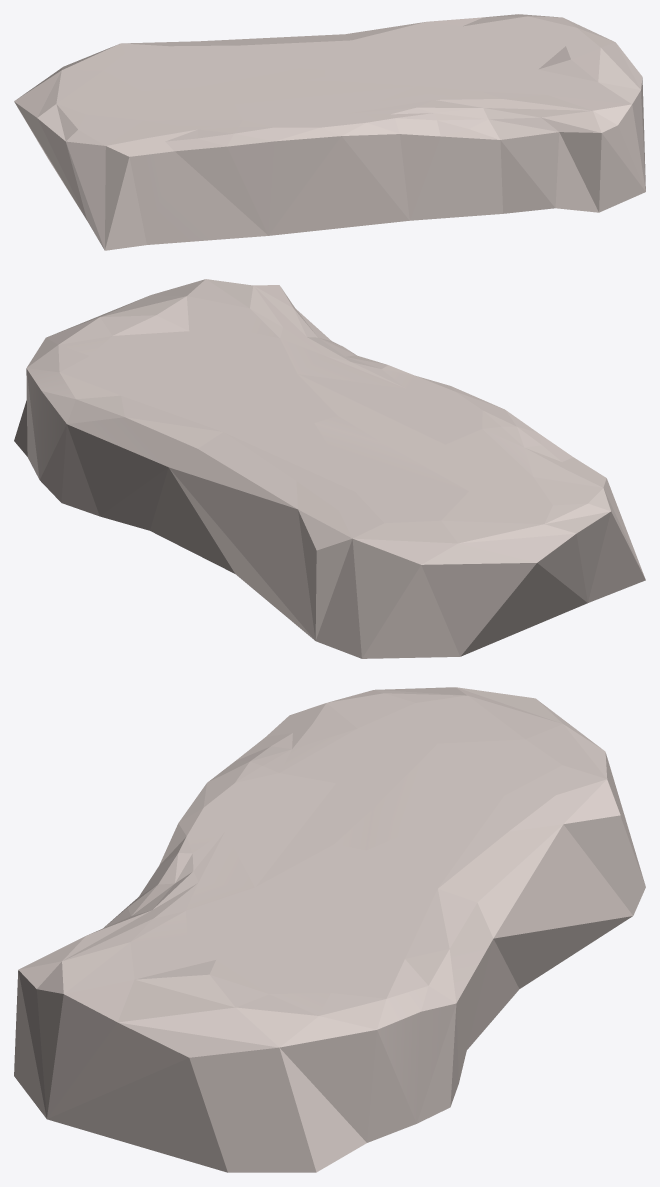
The model's file is mountain.014.fbx.
3 renders of one model, top to bottom at view 1: azimuth 30°, elevation 25°; view 2: azimuth 150°, elevation 25°; view 3: azimuth 270°, elevation 25°, orthographic. The views are drawn at different scales.
Visible parts, largest first — view 1: mountain_014; view 2: mountain_014; view 3: mountain_014.
Part boxes in pixels (box(x1,y1,x2,y2)): mountain_014: box(14, 14, 645, 250); mountain_014: box(14, 279, 645, 658); mountain_014: box(14, 687, 645, 1172).
Size of the model in its own units: 28957 by 5350 by 21229.
